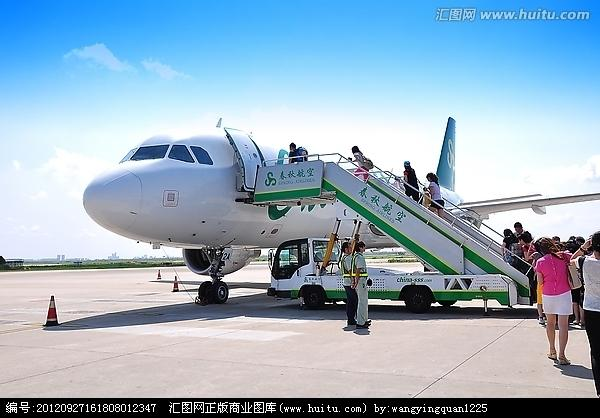airplane: (81, 115, 598, 309)
